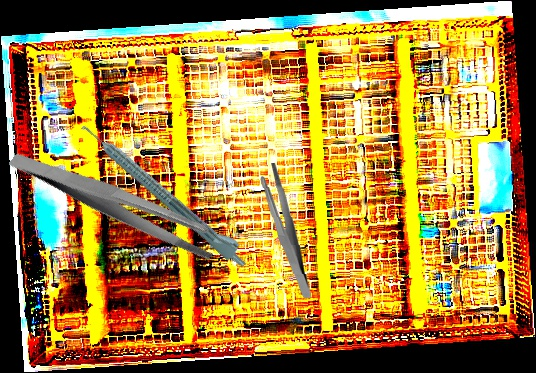Dressing Forceps: (7, 104, 225, 301), (259, 162, 313, 300)
Handpiece: (78, 113, 255, 272)
